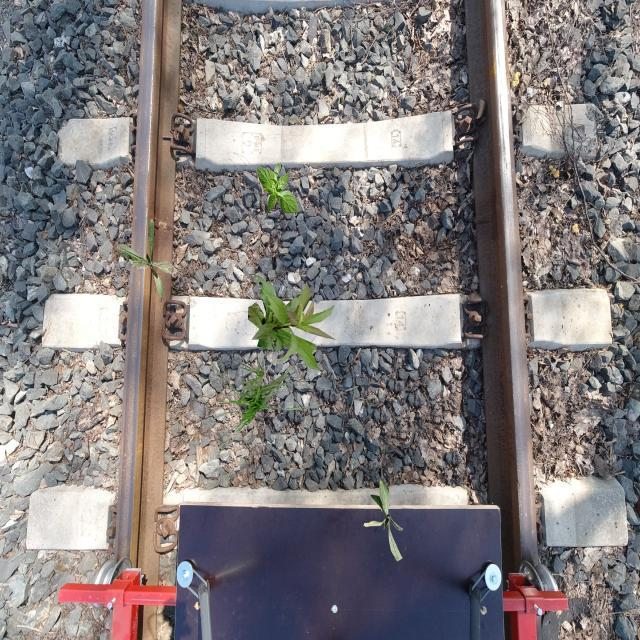Plant: (206, 334, 324, 456), (248, 274, 336, 372), (116, 219, 180, 303), (364, 479, 404, 562), (257, 162, 298, 216)
